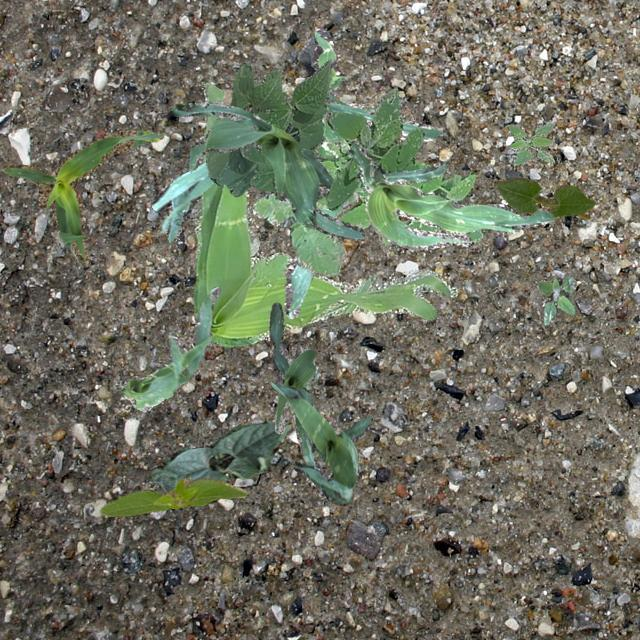crop: (150, 28, 440, 318), (172, 100, 362, 238), (2, 128, 162, 264), (348, 142, 552, 248), (204, 59, 340, 197), (270, 382, 372, 504), (120, 286, 220, 410), (150, 419, 290, 488), (268, 302, 322, 472), (100, 476, 246, 516), (494, 177, 594, 216)
weed: (193, 80, 457, 347), (318, 112, 482, 250), (250, 138, 358, 274), (323, 84, 422, 210), (506, 120, 554, 163), (536, 274, 576, 324), (304, 366, 320, 410)
